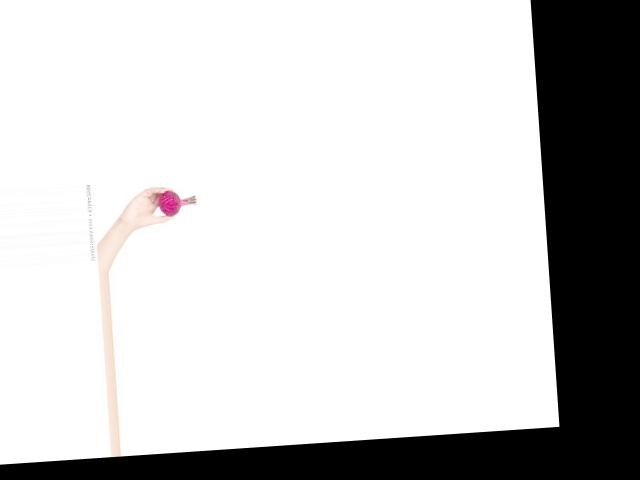beet: (158, 188, 197, 216)
